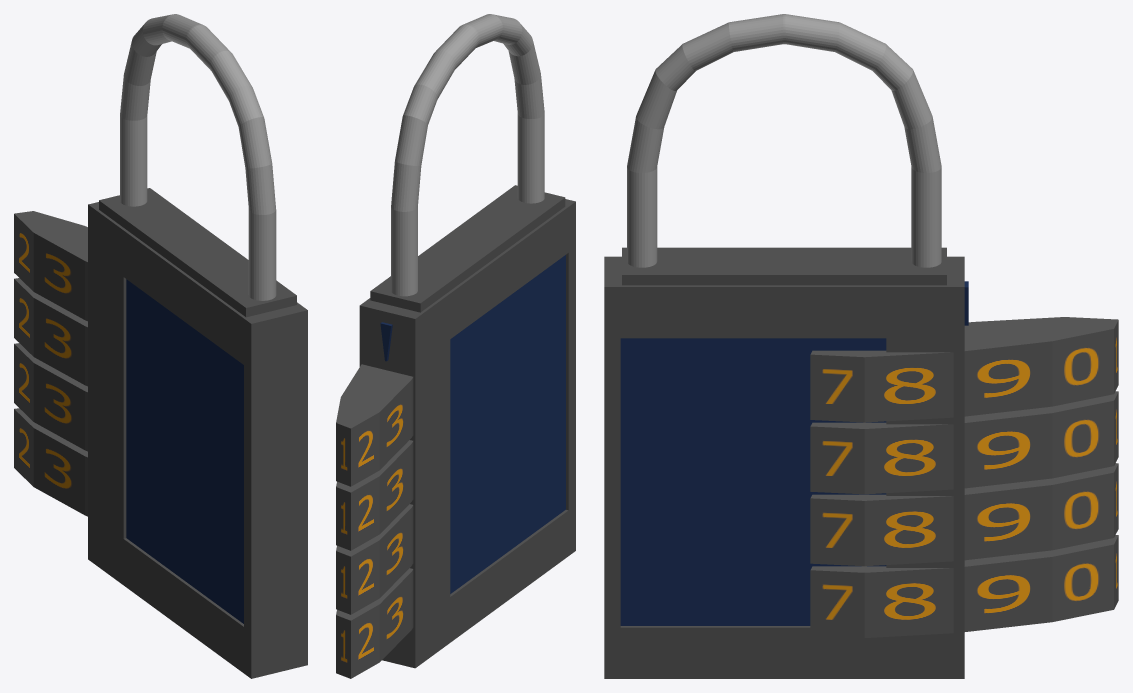
Rendered from padlock.fbx.
3 renders of one model, left to right at view 1: azimuth 30°, elevation 25°; view 2: azimuth 150°, elevation 25°; view 3: azimuth 270°, elevation 25°, orthographic. The views are drawn at different scales.
Visible parts, largest first — view 1: body, Shakle, num1, num2, num4, num3; view 2: body, Shakle, num1, num4, num3, num2; view 3: body, num1, num2, num3, num4, Shakle.
Part boxes in pixels (<box>): body: <box>88,188,307,678</box>; Shakle: <box>120,14,276,300</box>; num1: <box>14,211,87,321</box>; num2: <box>14,278,87,386</box>; num4: <box>14,408,87,516</box>; num3: <box>14,343,87,451</box>; body: <box>359,185,575,668</box>; Shakle: <box>391,14,544,296</box>; num1: <box>336,364,413,486</box>; num4: <box>336,568,413,678</box>; num3: <box>336,504,413,614</box>; num2: <box>336,440,413,550</box>; body: <box>604,247,968,678</box>; num1: <box>810,317,1118,422</box>; num2: <box>810,391,1118,494</box>; num3: <box>810,463,1118,566</box>; num4: <box>810,535,1118,637</box>; Shakle: <box>627,14,941,267</box>.
Bounding box in the file's own units: 1.32 × 9.92 × 7.14.
